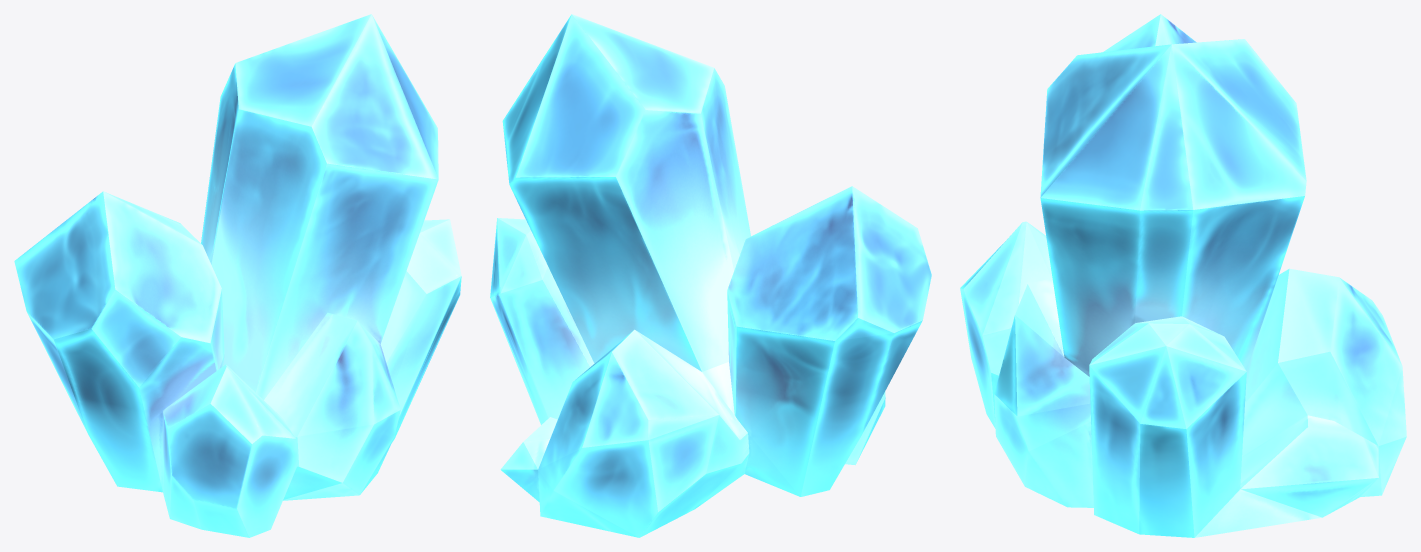
Rendered from crystal_blue.fbx.
3 renders of one model, left to right at view 1: azimuth 30°, elevation 25°; view 2: azimuth 150°, elevation 25°; view 3: azimuth 270°, elevation 25°, orthographic. The views are drawn at different scales.
Parts seen in each view (by area): view 1: crystal_blue; view 2: crystal_blue; view 3: crystal_blue.
Part boxes in pixels (bbox=[...]): crystal_blue: bbox=[14, 14, 461, 537]; crystal_blue: bbox=[490, 14, 931, 537]; crystal_blue: bbox=[960, 14, 1406, 537].
Size of the model in its own units: 1.66 by 1.62 by 1.35.
